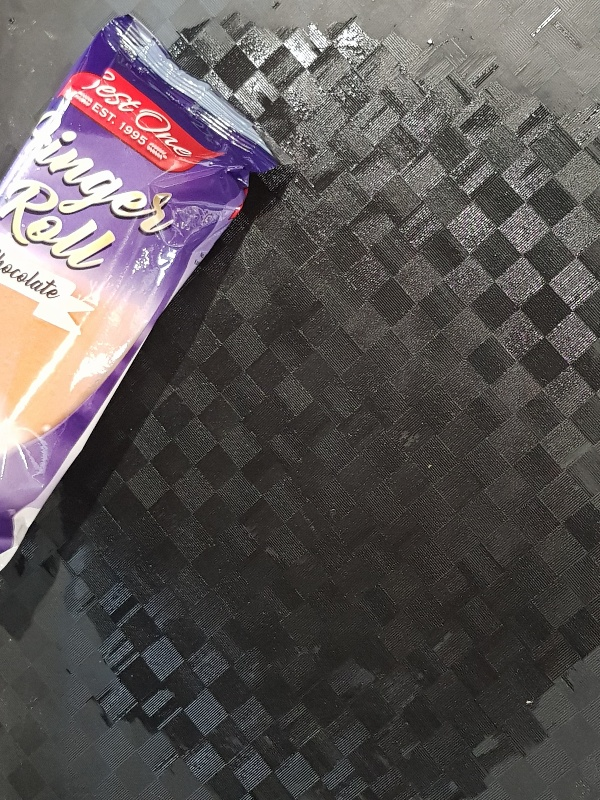Tinges Roll Chocolate: (1, 14, 278, 574)
